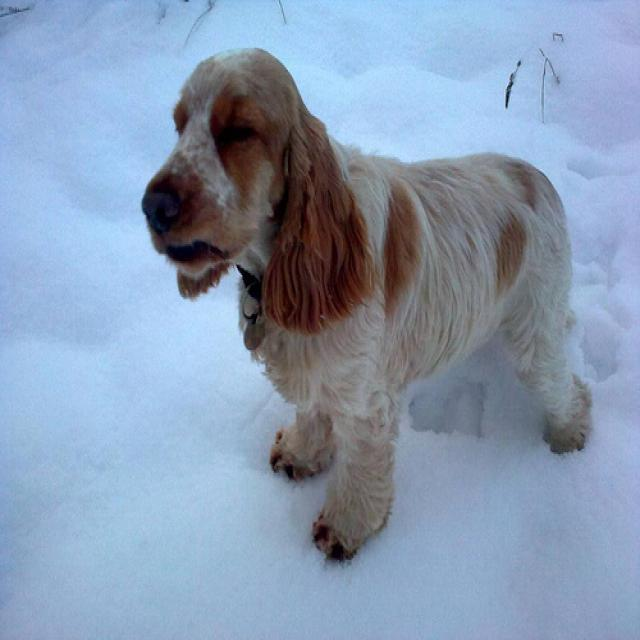dog-english_cocker_spaniel: (134, 36, 602, 572)
